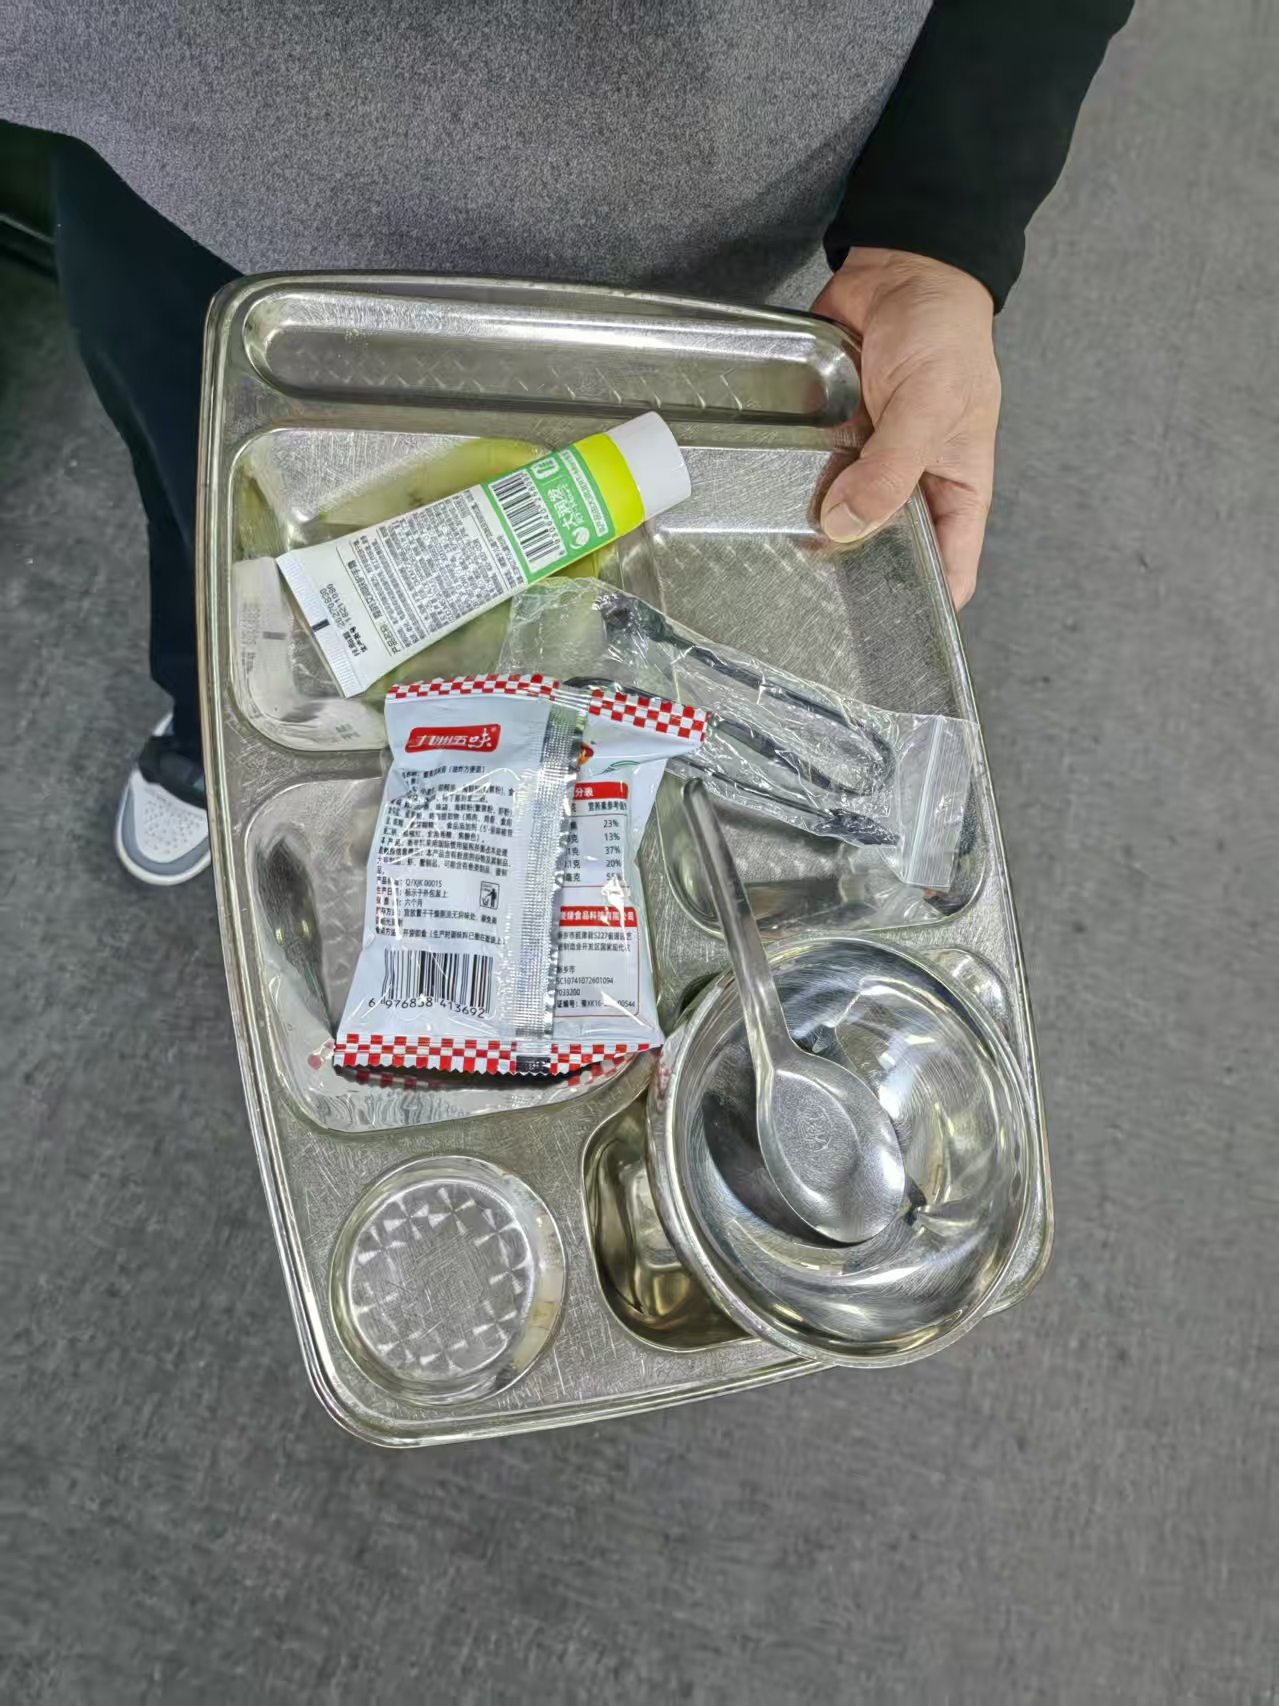moderate: (277, 408, 987, 1080)
plate: (190, 267, 1059, 1452)
